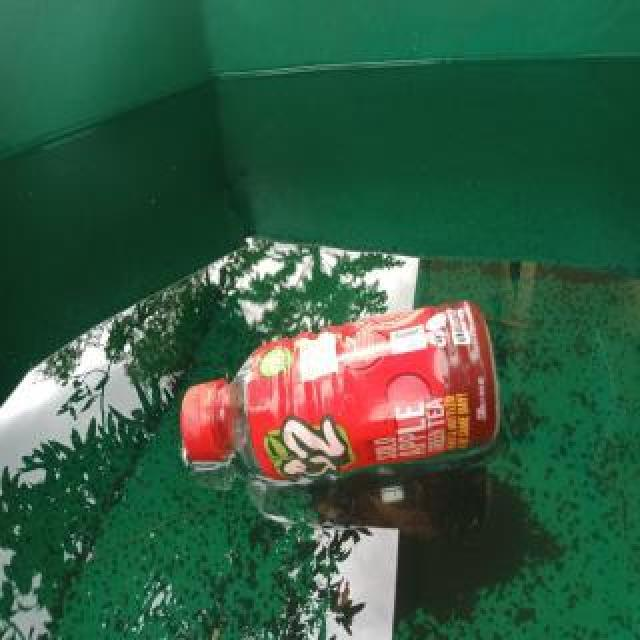bottle: (179, 296, 507, 482)
